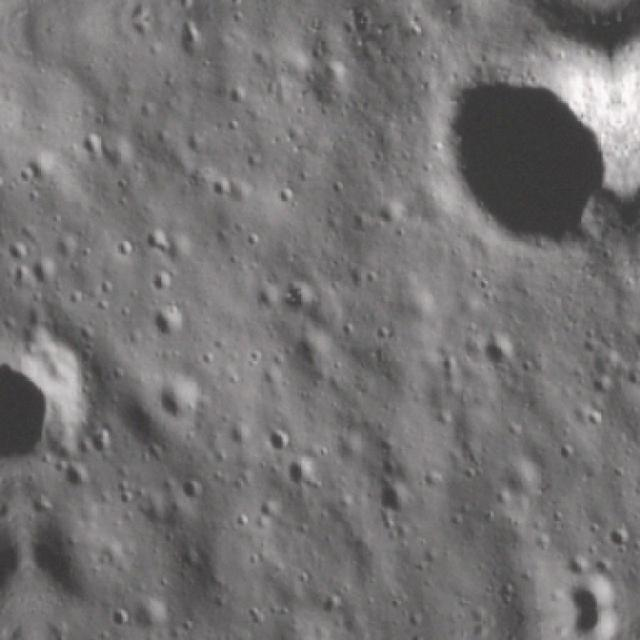crater: (396, 16, 627, 273), (0, 320, 105, 482), (153, 372, 219, 437), (466, 311, 526, 375), (555, 572, 619, 614), (595, 516, 636, 553), (283, 279, 320, 316)
